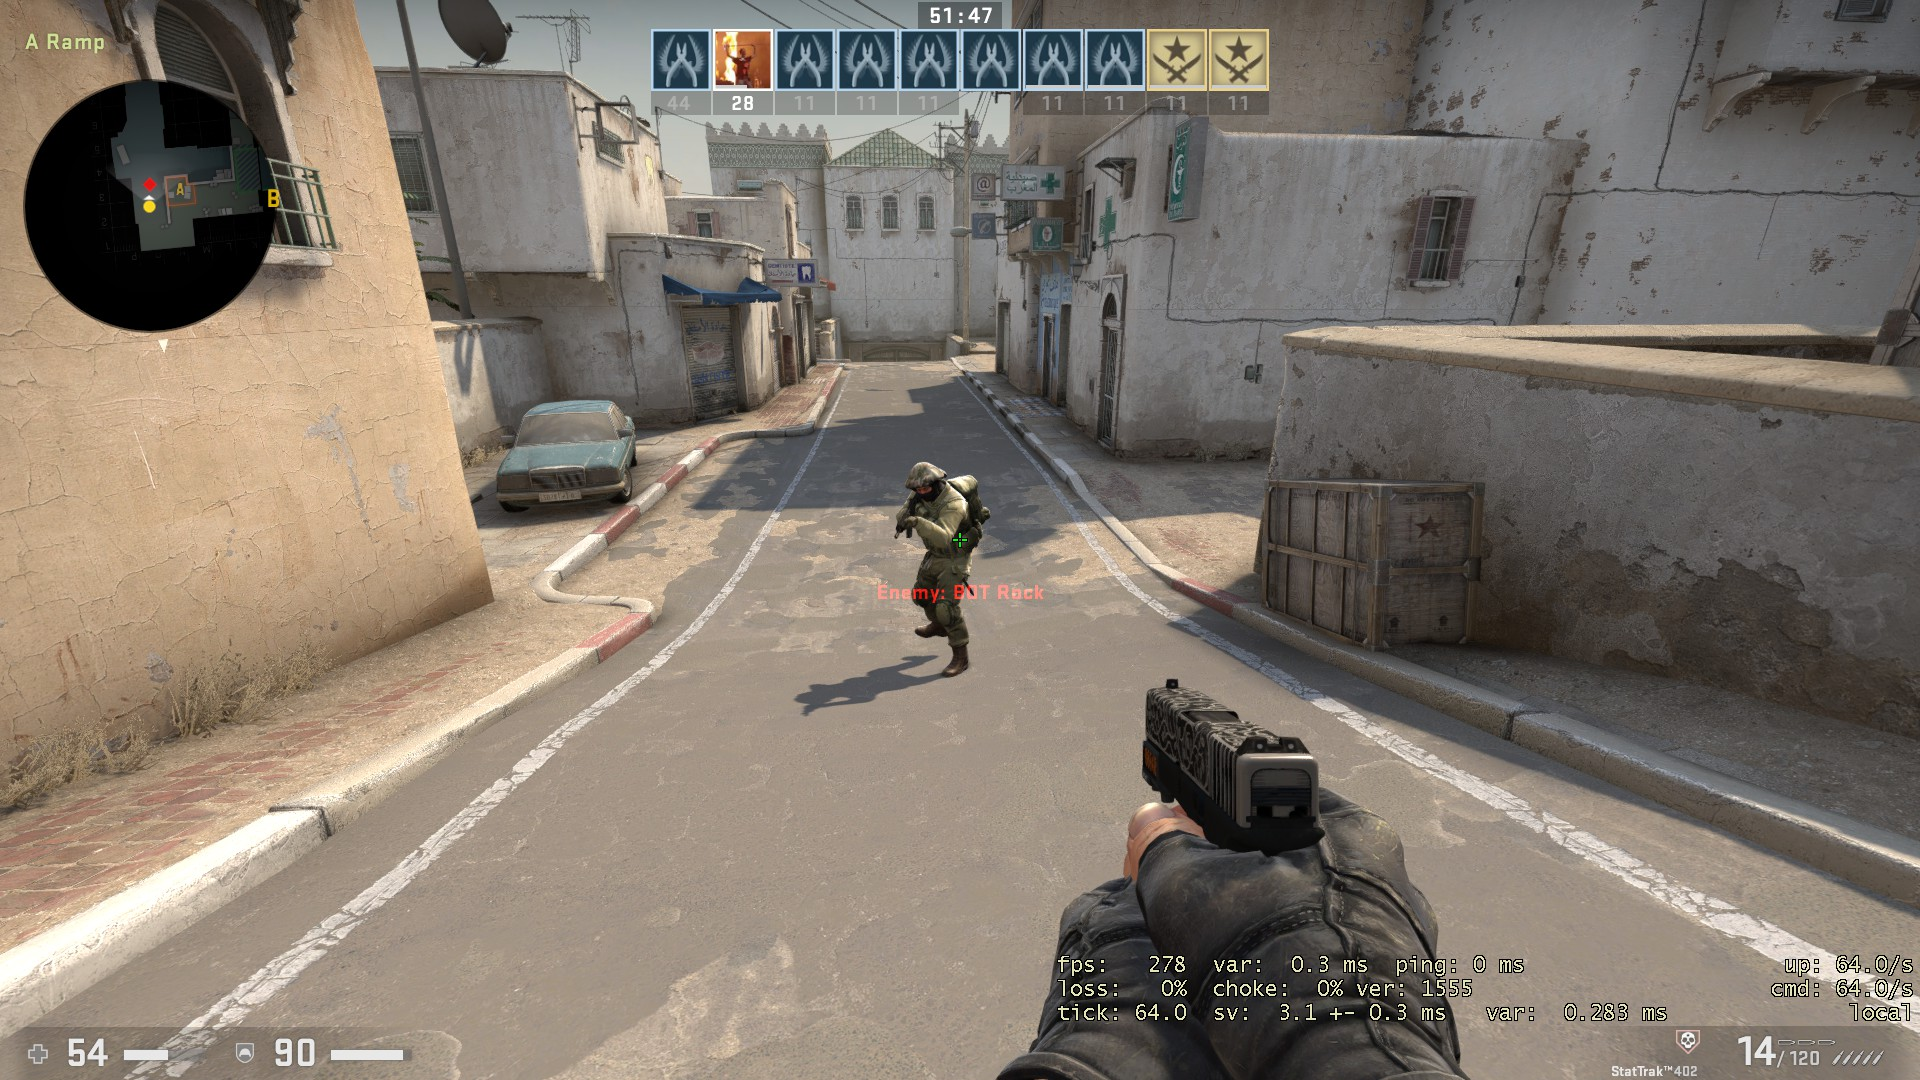ct: (887, 454, 992, 684)
player: (885, 454, 993, 682)
